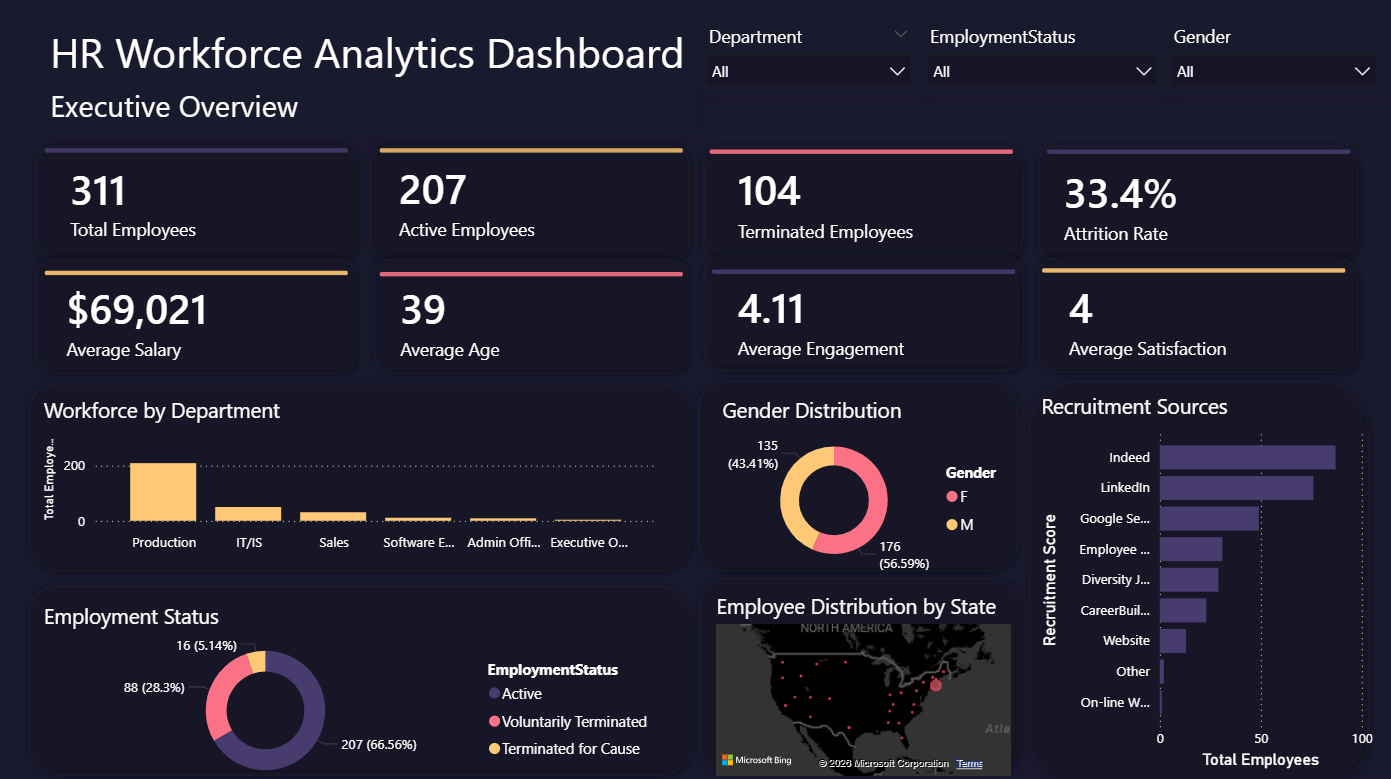

What the dashboard file says about the page in this screenshot:
{"tool":"powerbi","page":{"name":"Executive Overview","canvas":[1280,720],"ordinal":0},"visuals":[{"type":"shape","box":[26.4,525.9,613.6,184.9],"z":0},{"type":"textbox","title":"HR Workforce Analytics Dashboard","box":[42,18,599.2,109.3],"z":1000},{"type":"shape","box":[26.4,342.2,613.6,183.7],"z":2000},{"type":"shape","box":[32.4,127.3,303.8,117.7],"z":3000},{"type":"cardVisual","fields":{"Data":["Measure.Terminated Employees"]},"box":[647.2,129.7,300.2,115.3],"z":4000},{"type":"shape","box":[336.2,127.3,303.8,117.7],"z":5000},{"type":"shape","box":[637.6,127.3,303.8,117.7],"z":6000},{"type":"shape","box":[941.4,127.3,303.8,117.7],"z":7000},{"type":"shape","box":[32.4,229.3,303.8,117.7],"z":8000},{"type":"shape","box":[338.6,229.3,299,117.7],"z":9000},{"type":"shape","box":[638.8,226.9,303.8,117.7],"z":10000},{"type":"shape","box":[941.4,228.1,303.8,117.7],"z":11000},{"type":"cardVisual","fields":{"Data":["Measure.Total Employees"]},"box":[41.9,125.6,300,116.3],"z":12000},{"type":"cardVisual","fields":{"Data":["Measure.Active Employees"]},"box":[340.7,125.6,300,115.1],"z":13000},{"type":"cardVisual","fields":{"Data":["Measure.Terminated Employees"]},"box":[647.2,127.3,300.2,115.3],"z":14000},{"type":"cardVisual","fields":{"Data":["Measure.Attrition Rate"]},"box":[943.8,129.7,300.2,115.3],"z":15000},{"type":"cardVisual","fields":{"Data":["Measure.Average Salary"]},"box":[38.4,234.9,300,115.1],"z":16000},{"type":"cardVisual","fields":{"Data":["Measure.Average Age"]},"box":[341.9,234.9,300,115.1],"z":17000},{"type":"cardVisual","fields":{"Data":["Measure.Average Engagement"]},"box":[647.7,233.7,300,115.1],"z":18000},{"type":"cardVisual","fields":{"Data":["Measure.Average Satisfaction"]},"box":[947.7,233.7,300,115.1],"z":19000},{"type":"slicer","fields":{"Values":["HR_Dataset.Department"]},"box":[637.6,18,206.5,68.4],"z":20000},{"type":"slicer","fields":{"Values":["HR_Dataset.EmploymentStatus"]},"box":[838.1,18,229.3,68.4],"z":21000},{"type":"slicer","fields":{"Values":["HR_Dataset.Gender"]},"box":[1059.1,18,206.5,68.4],"z":22000},{"type":"clusteredColumnChart","title":"Workforce by Department","fields":{"Category":["HR_Dataset.Department"],"Y":["Measure.Total Employees"]},"box":[42,360.2,566.8,148.9],"z":23000},{"type":"shape","box":[632.8,339.8,303.8,186.1],"z":24000},{"type":"donutChart","title":"Gender Distribution","fields":{"Category":["HR_Dataset.Gender"],"Y":["Measure.Total Employees"]},"box":[658,360.2,278.6,165.7],"z":25000},{"type":"donutChart","title":"Employment Status","fields":{"Category":["HR_Dataset.EmploymentStatus"],"Y":["Measure.Total Employees"]},"box":[42,547.5,566.8,172.9],"z":26000},{"type":"shape","box":[933,339.8,321.8,380.6],"z":27000},{"type":"barChart","title":"Recruitment Sources","fields":{"Category":["HR_Dataset.RecruitmentSource"],"Y":["Measure.Total Employees"]},"box":[947.4,357.8,311,347],"z":28000},{"type":"shape","box":[633.7,518.6,303.5,191.9],"z":29000},{"type":"map","title":"Employee Distribution by State","fields":{"Category":["HR_Dataset.State"],"Size":["Measure.Total Employees"]},"box":[652.3,538.4,276.7,172.1],"z":30000},{"type":"shape","box":[47.7,117.4,275.6,40.7],"z":31000},{"type":"shape","box":[351.2,117.4,275.6,40.7],"z":32000},{"type":"shape","box":[651.2,118.6,275.6,40.7],"z":33000},{"type":"shape","box":[957,118.6,275.6,40.7],"z":34000},{"type":"shape","box":[47.7,229.1,275.6,40.7],"z":35000},{"type":"shape","box":[351.2,230.2,275.6,40.7],"z":36000},{"type":"shape","box":[653.5,227.9,275.6,40.7],"z":37000},{"type":"shape","box":[952.3,226.7,275.6,40.7],"z":38000}]}

Visuals, with their boxes in screenshot pixels (x1, y1, x2, y2), scaled from the page's 1280x720 canvas onto the 1391x779 screenshot:
shape: bbox(29, 569, 696, 769)
"HR Workforce Analytics Dashboard" textbox: bbox(46, 19, 697, 138)
shape: bbox(29, 370, 696, 569)
shape: bbox(35, 138, 365, 265)
cardVisual - Measure.Terminated Employees: bbox(703, 140, 1030, 265)
shape: bbox(365, 138, 696, 265)
shape: bbox(693, 138, 1023, 265)
shape: bbox(1023, 138, 1353, 265)
shape: bbox(35, 248, 365, 375)
shape: bbox(368, 248, 693, 375)
shape: bbox(694, 245, 1024, 373)
shape: bbox(1023, 247, 1353, 374)
cardVisual - Measure.Total Employees: bbox(46, 136, 372, 262)
cardVisual - Measure.Active Employees: bbox(370, 136, 696, 260)
cardVisual - Measure.Terminated Employees: bbox(703, 138, 1030, 262)
cardVisual - Measure.Attrition Rate: bbox(1026, 140, 1352, 265)
cardVisual - Measure.Average Salary: bbox(42, 254, 368, 379)
cardVisual - Measure.Average Age: bbox(372, 254, 698, 379)
cardVisual - Measure.Average Engagement: bbox(704, 253, 1030, 377)
cardVisual - Measure.Average Satisfaction: bbox(1030, 253, 1356, 377)
slicer - HR_Dataset.Department: bbox(693, 19, 917, 93)
slicer - HR_Dataset.EmploymentStatus: bbox(911, 19, 1160, 93)
slicer - HR_Dataset.Gender: bbox(1151, 19, 1375, 93)
"Workforce by Department" clusteredColumnChart: bbox(46, 390, 662, 551)
shape: bbox(688, 368, 1018, 569)
"Gender Distribution" donutChart: bbox(715, 390, 1018, 569)
"Employment Status" donutChart: bbox(46, 592, 662, 778)
shape: bbox(1014, 368, 1364, 778)
"Recruitment Sources" barChart: bbox(1030, 387, 1368, 763)
shape: bbox(689, 561, 1018, 769)
"Employee Distribution by State" map: bbox(709, 583, 1010, 769)
shape: bbox(52, 127, 351, 171)
shape: bbox(382, 127, 681, 171)
shape: bbox(708, 128, 1007, 172)
shape: bbox(1040, 128, 1339, 172)
shape: bbox(52, 248, 351, 292)
shape: bbox(382, 249, 681, 293)
shape: bbox(710, 247, 1010, 291)
shape: bbox(1035, 245, 1334, 289)
